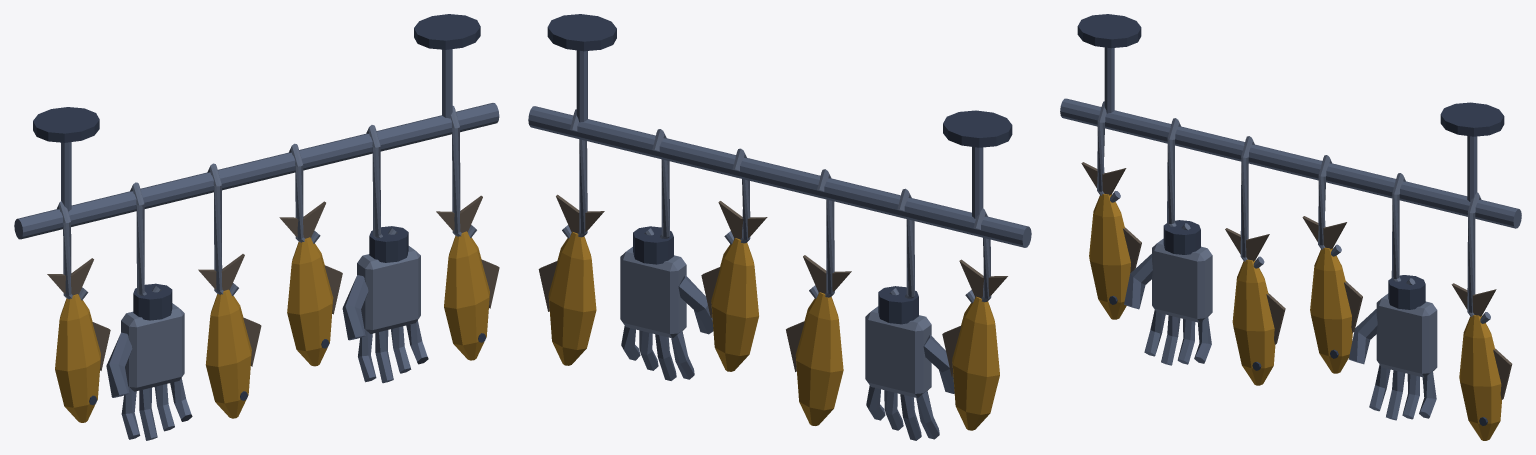
The model's file is bw_targ_hanging_rack.glb.
3 renders of one model, left to right at view 1: azimuth 30°, elevation 25°; view 2: azimuth 150°, elevation 25°; view 3: azimuth 330°, elevation 25°, orthographic. The views are drawn at different scales.
Visible parts, largest first — view 1: ceiling_plate.002, ceiling_plate.004, ceiling_plate.003, ceiling_plate.001, ceiling_plate; view 2: ceiling_plate.004, ceiling_plate.002, ceiling_plate.003, ceiling_plate.001, ceiling_plate; view 3: ceiling_plate.002, ceiling_plate.004, ceiling_plate.003, ceiling_plate.001, ceiling_plate.
Boxes of the visible parts, <box> form: ceiling_plate.002: <box>14,49,499,440</box>; ceiling_plate.004: <box>55,231,489,422</box>; ceiling_plate.003: <box>57,106,476,391</box>; ceiling_plate.001: <box>33,14,485,405</box>; ceiling_plate: <box>47,195,499,370</box>; ceiling_plate.004: <box>548,232,999,430</box>; ceiling_plate.002: <box>528,50,1031,440</box>; ceiling_plate.003: <box>562,109,991,398</box>; ceiling_plate.001: <box>547,14,1012,324</box>; ceiling_plate: <box>538,194,1007,376</box>; ceiling_plate.002: <box>1060,47,1521,420</box>; ceiling_plate.004: <box>1089,193,1501,440</box>; ceiling_plate.003: <box>1097,101,1490,377</box>; ceiling_plate.001: <box>1077,14,1504,425</box>; ceiling_plate: <box>1081,162,1512,399</box>.
Bounding box in the file's own units: 2.4 × 1.6 × 0.3.
